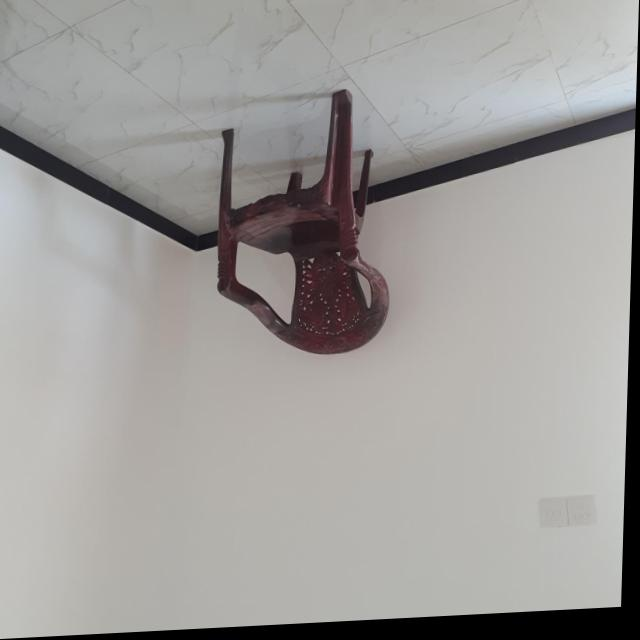Chair: (214, 90, 399, 365)
